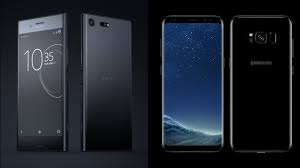samsung: (230, 13, 291, 152)
sony: (161, 14, 222, 153), (15, 14, 71, 154), (82, 12, 138, 152)
